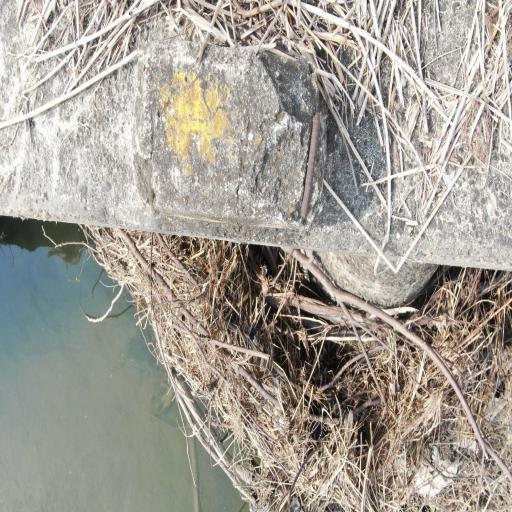exposed_rebar: (301, 112, 321, 218), (145, 158, 155, 204)
